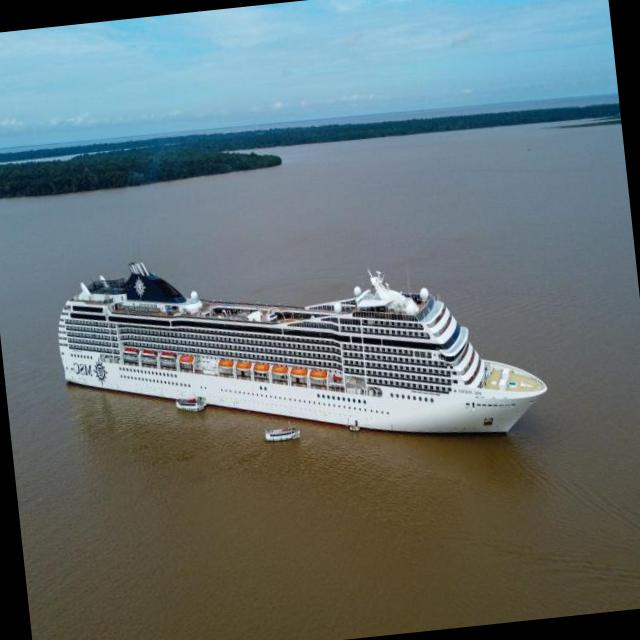Cruise: (57, 260, 546, 433)
